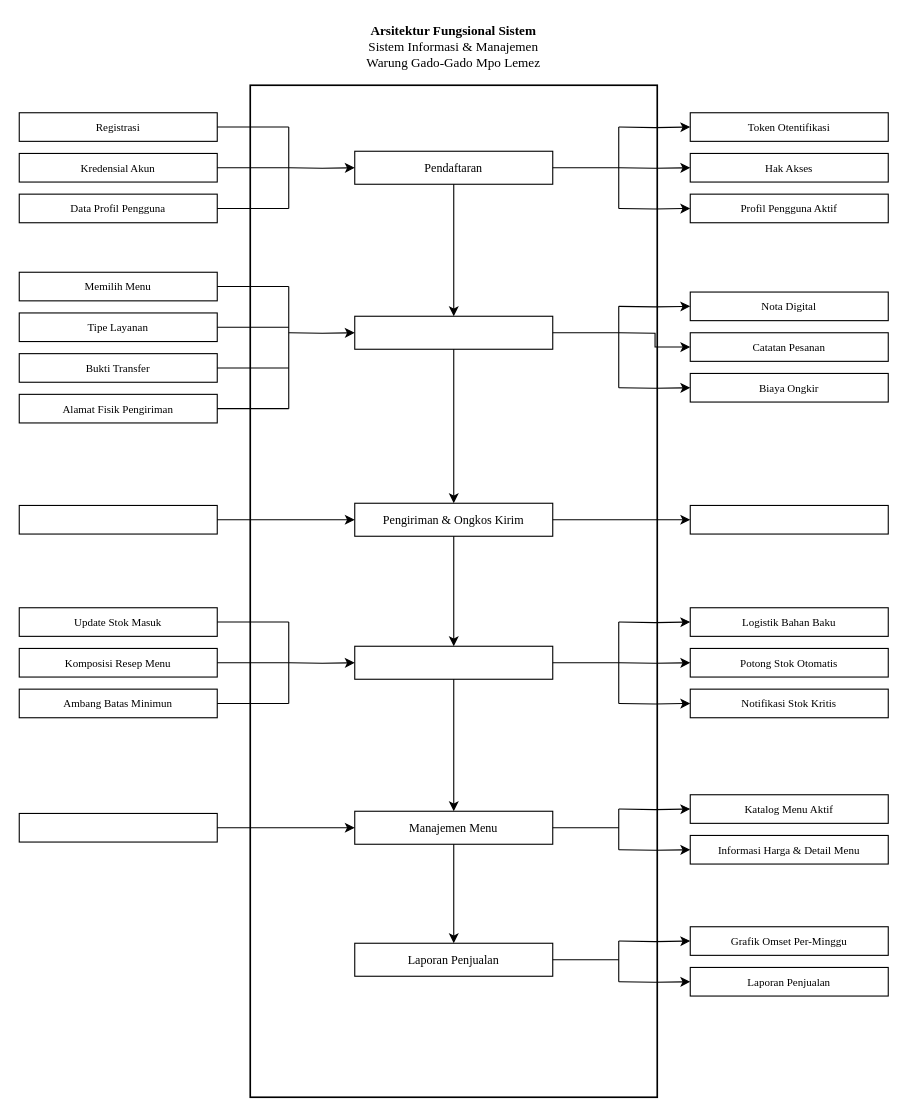
The diagram is 908 pixels wide and 1117 high, and some of its shapes have lost their labels. Here are the shapes that lost their labels. From the top down, the box of each, then its label:
(354, 315, 553, 349): Pemesanan & Pembayaran
(18, 504, 217, 534): Status Progress Kurir
(689, 504, 888, 534): Jarak Pengantaran
(354, 645, 553, 679): Manajemen Stok Bahan Baku
(18, 812, 217, 842): Menu
